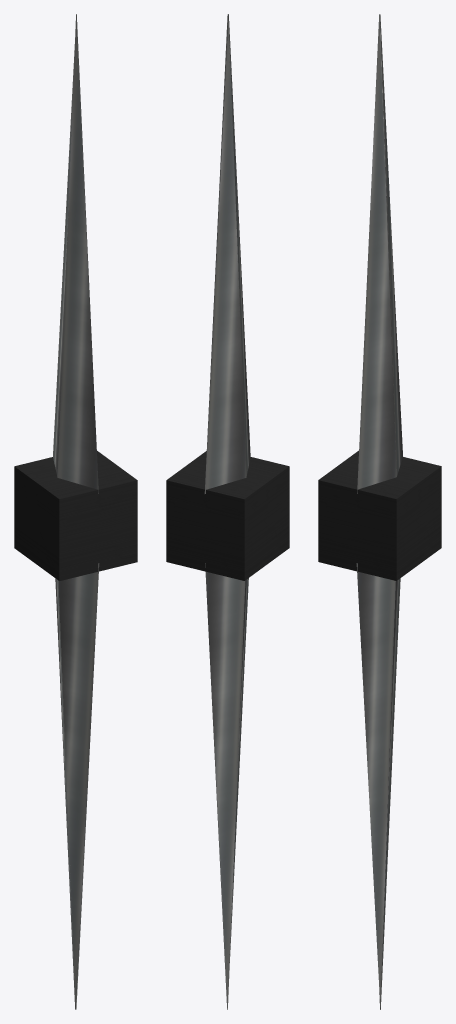
Rendered from blade.gltf.
3 renders of one model, left to right at view 1: azimuth 30°, elevation 25°; view 2: azimuth 150°, elevation 25°; view 3: azimuth 330°, elevation 25°, orthographic.
Visible parts, largest first — view 1: Box22, Box23, Box21; view 2: Box22, Box23, Box21; view 3: Box22, Box23, Box21.
Boxes of the visible parts, bbox=[...] form: Box22: bbox=[14, 451, 137, 580]; Box23: bbox=[53, 14, 98, 493]; Box21: bbox=[55, 563, 99, 1009]; Box22: bbox=[166, 451, 289, 580]; Box23: bbox=[204, 14, 250, 493]; Box21: bbox=[205, 563, 248, 1009]; Box22: bbox=[318, 450, 441, 580]; Box23: bbox=[357, 14, 402, 493]; Box21: bbox=[356, 563, 400, 1009].
Size of the model in its own units: 0.25 by 3.04 by 0.2583.
Materials: 3 (3 with a texture image).
